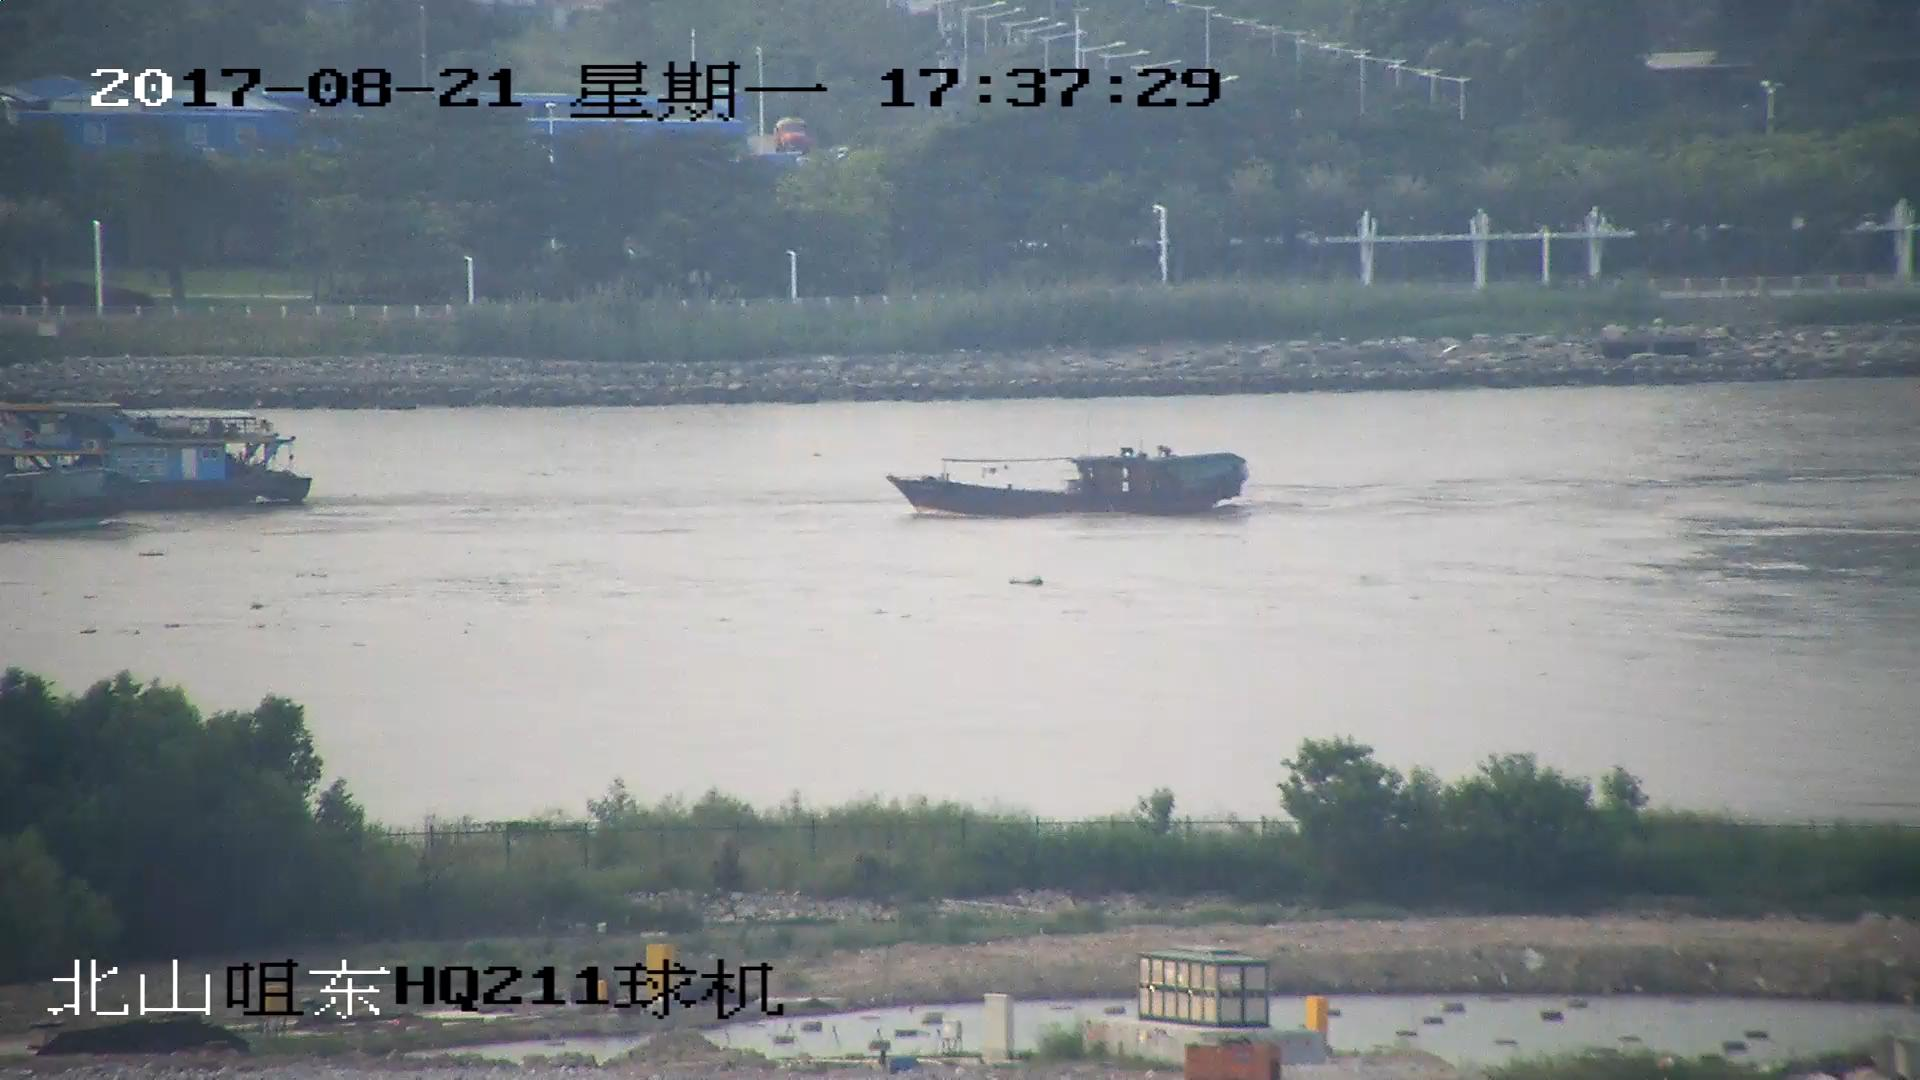fishing boat: (885, 452, 1249, 516)
